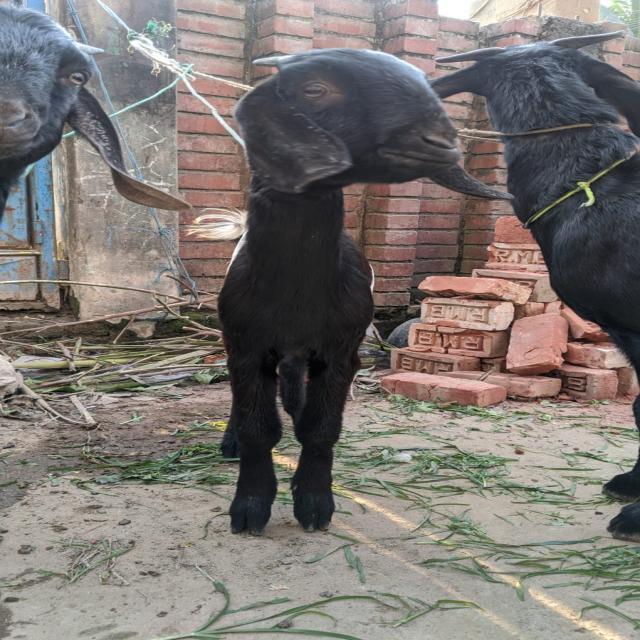Goat: (182, 46, 515, 536), (427, 29, 640, 541), (0, 2, 128, 220)
